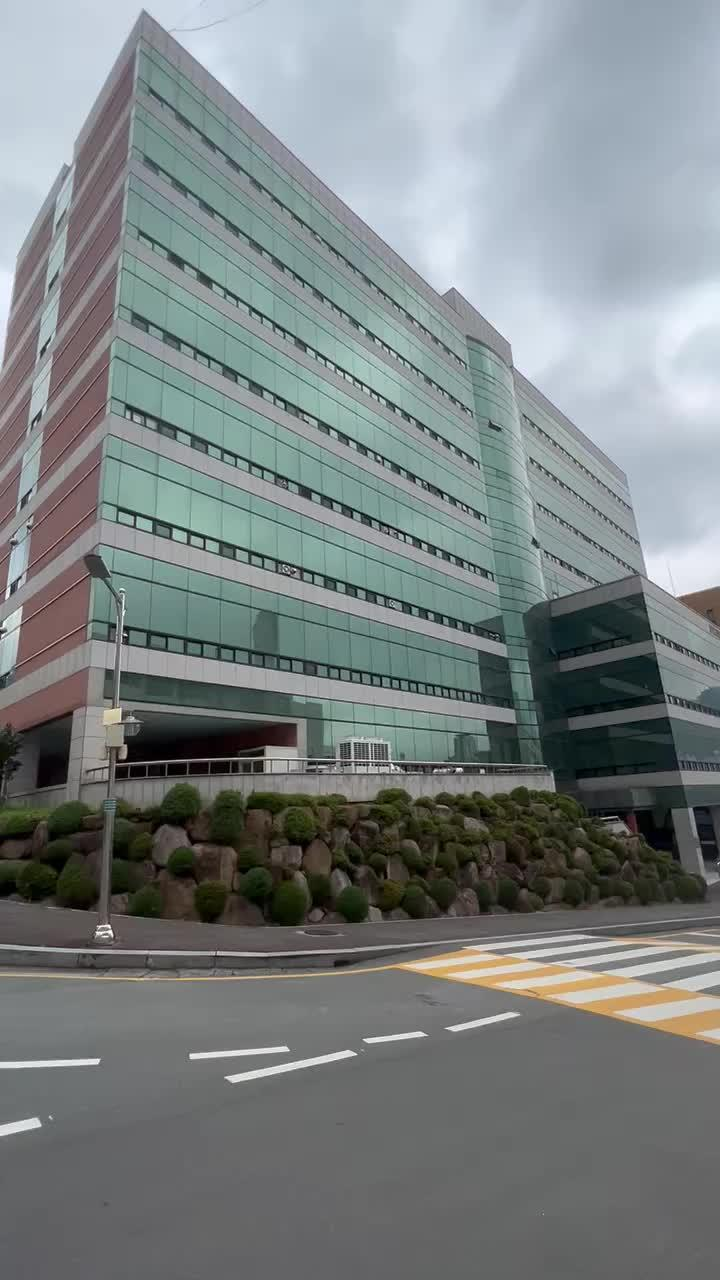building: (2, 70, 698, 804)
